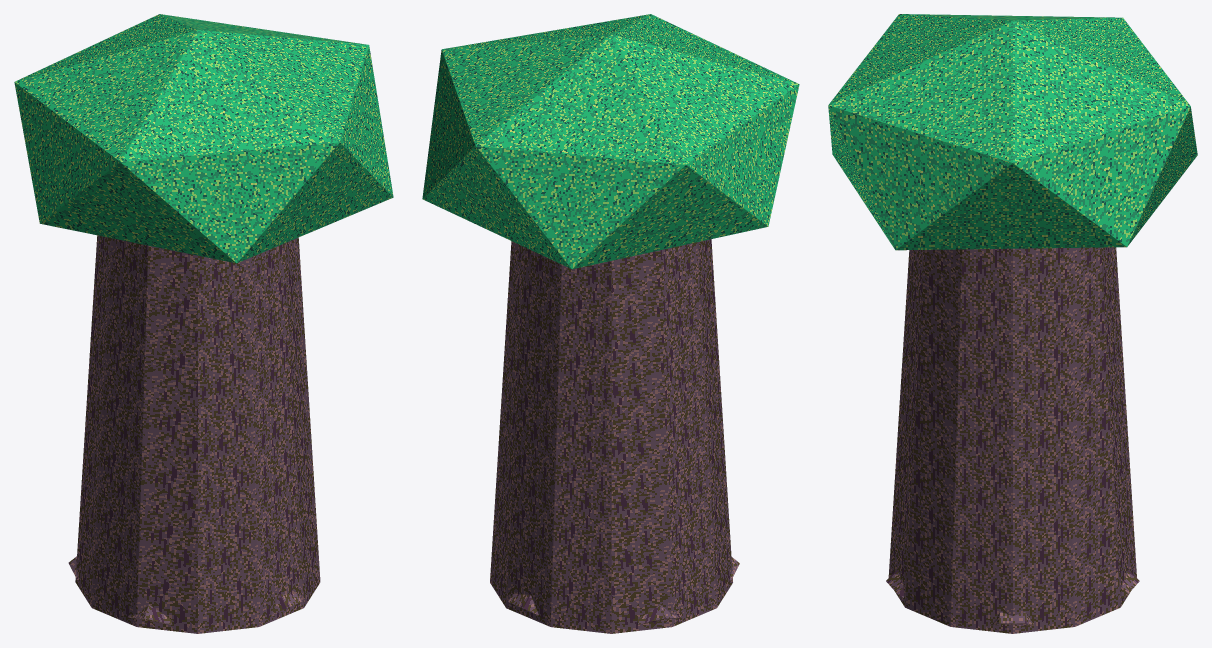
The model's file is a07_tronco_gigante.glb.
3 views of the same model, side by side, from view 1: azimuth 30°, elevation 25°; view 2: azimuth 150°, elevation 25°; view 3: azimuth 270°, elevation 25° (orthographic). The views are drawn at different scales.
Visible parts, largest first — view 1: a07_tronco_gigante; view 2: a07_tronco_gigante; view 3: a07_tronco_gigante.
Part boxes in pixels (<box>): a07_tronco_gigante: <box>14,14,393,633</box>; a07_tronco_gigante: <box>422,14,799,633</box>; a07_tronco_gigante: <box>828,14,1197,633</box>.
Size of the model in its own units: 12.41 by 20.39 by 11.88.
Materials: 2 (2 with a texture image).
